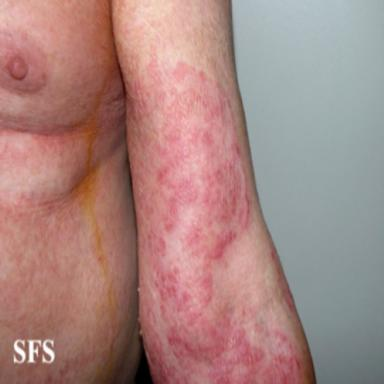Tinea-Corporis: (124, 55, 304, 384)
